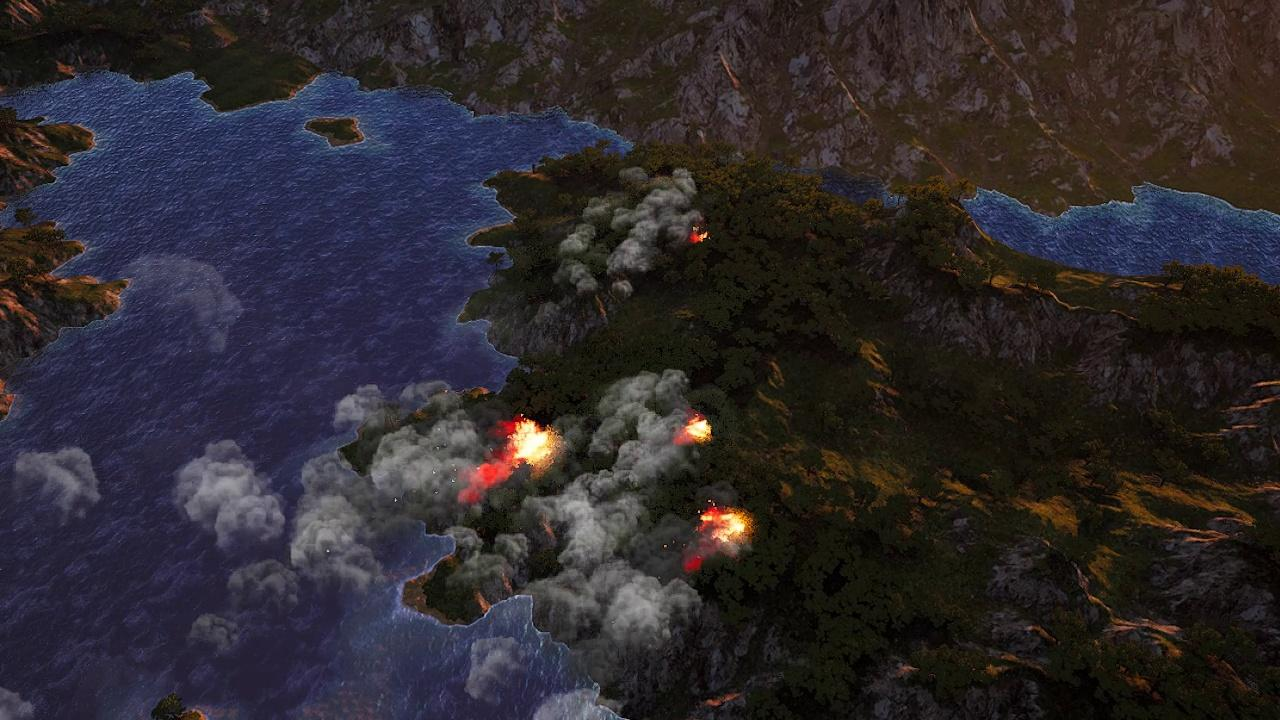fire: (700, 505, 752, 545), (514, 418, 557, 466), (682, 418, 712, 444), (691, 228, 709, 244)
smoke: (466, 368, 715, 720), (164, 383, 498, 637), (551, 166, 699, 300), (133, 254, 246, 360), (9, 444, 103, 520)
